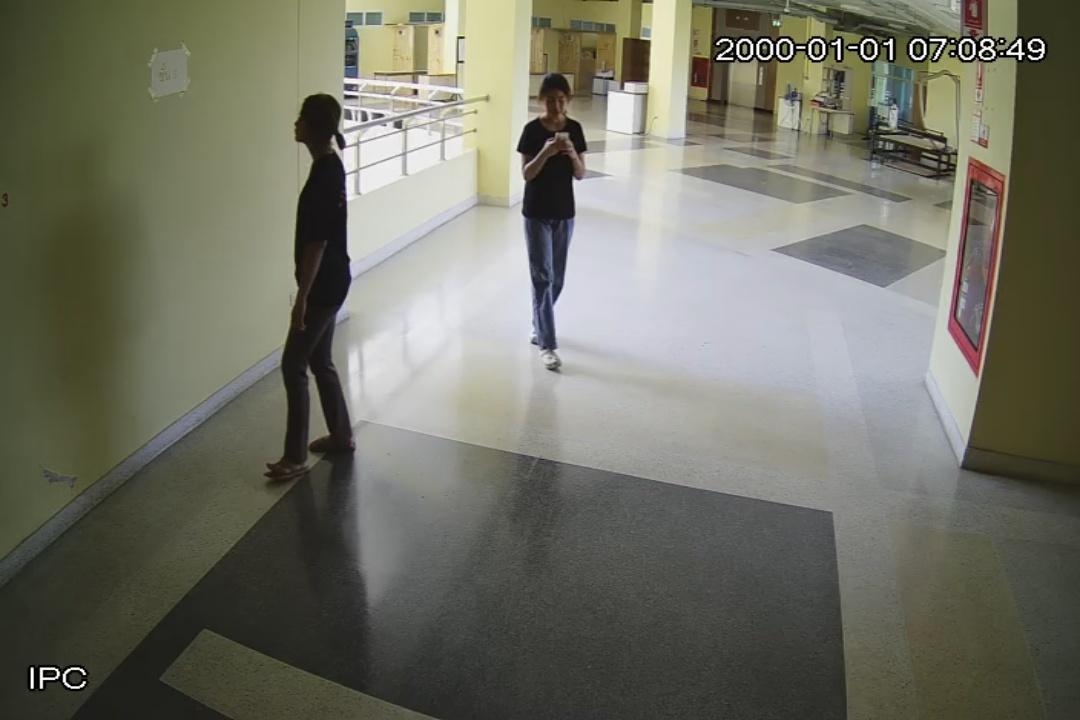normal: (267, 89, 356, 479), (518, 75, 588, 376)
